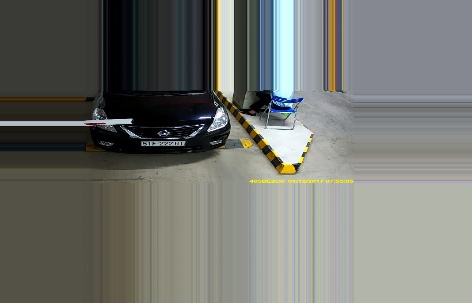plate: (138, 138, 187, 147)
